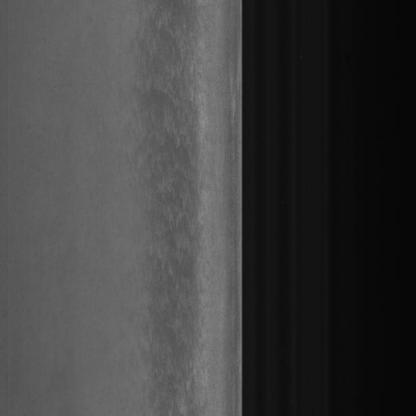silk_spot: (120, 24, 202, 380)
